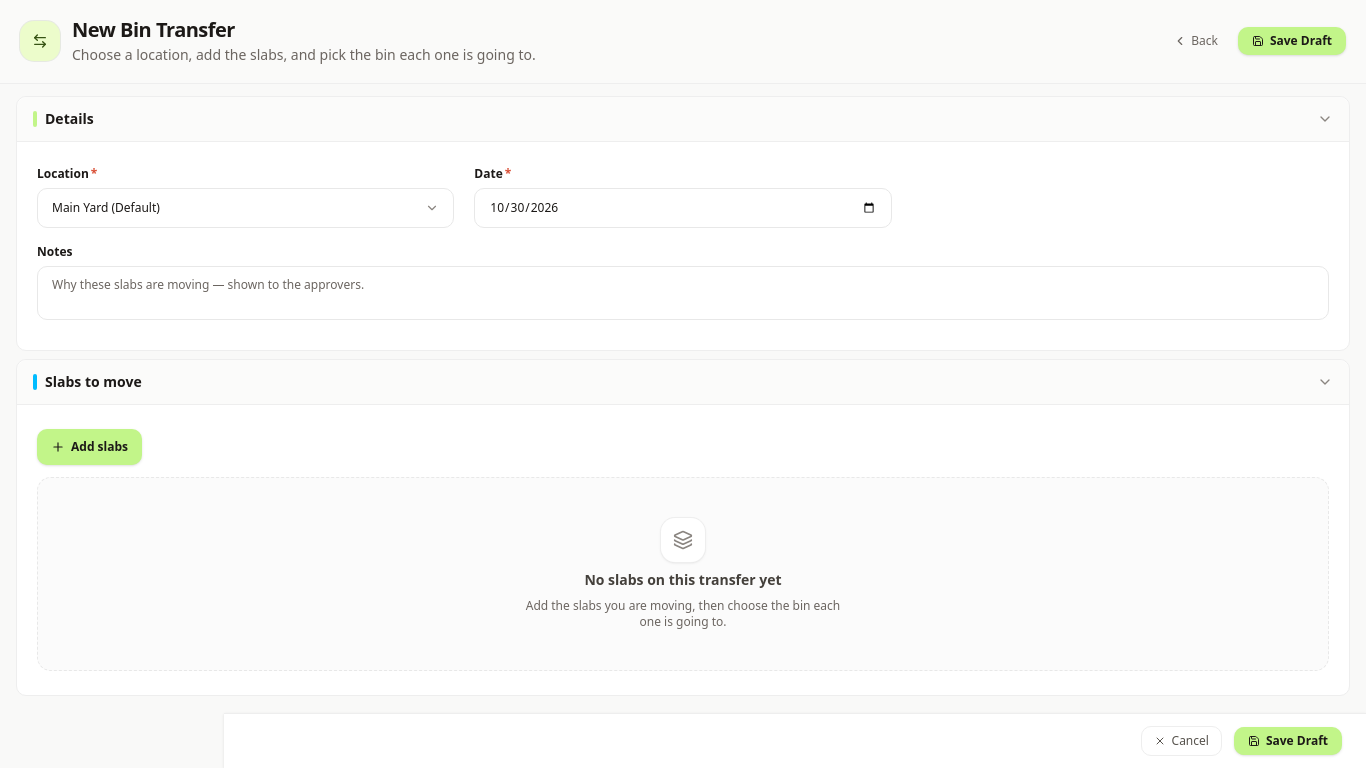
AddBinTransferPage › shows a slab that is already on the transfer as added rather than hiding it
Click the button "Add slabs". click: coordinates (90, 447)
box: [37,429,142,465]
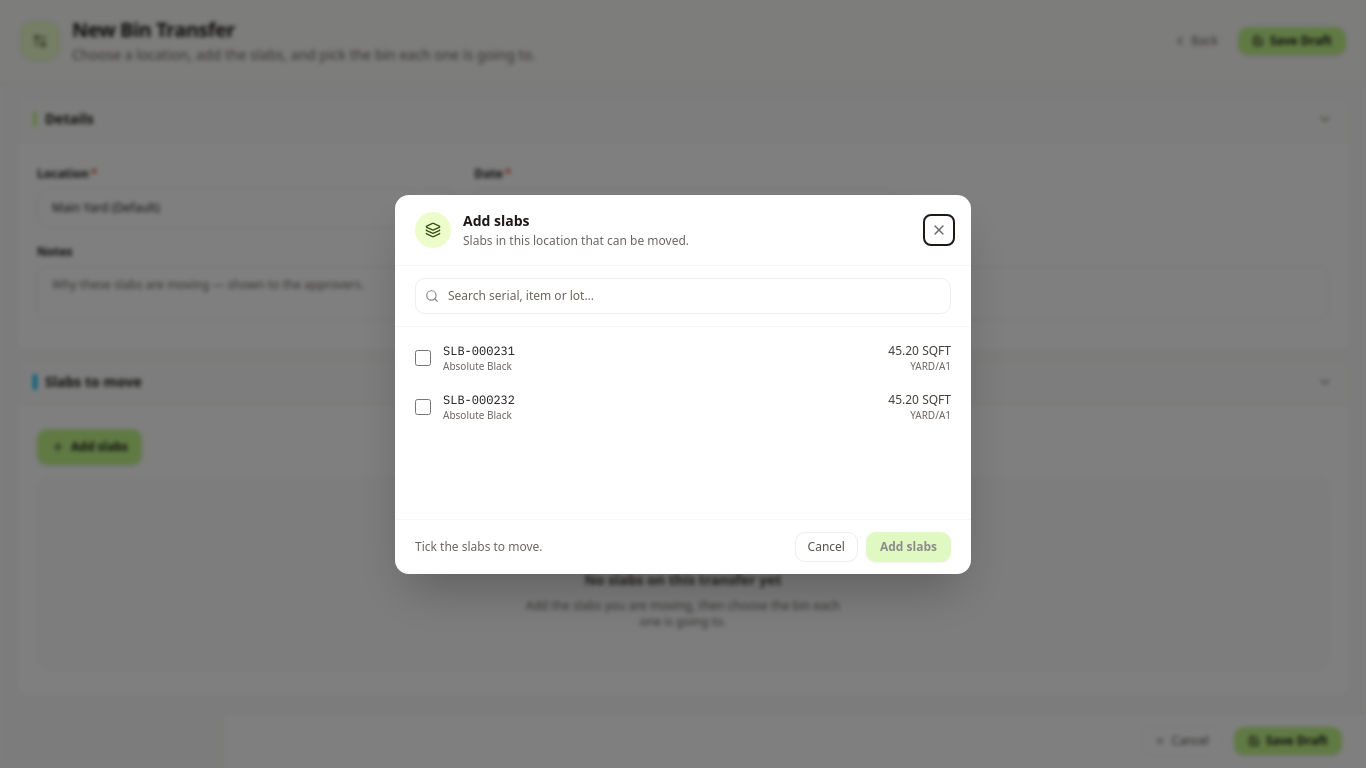
Click the checkbox named "Select SLB-000231". click: coordinates (423, 358)
box: [415,350,431,366]
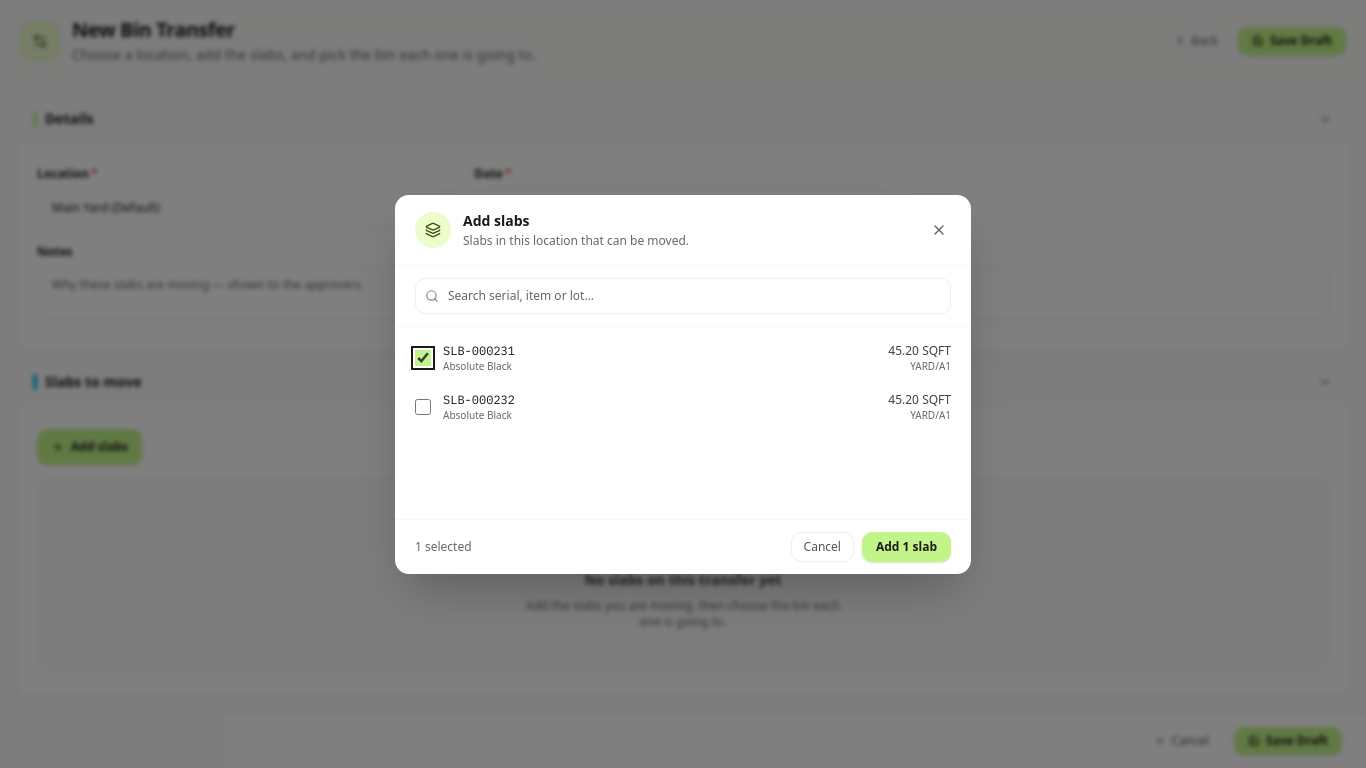
Click the button "Add 1 slab". click: coordinates (906, 546)
box: [862,532,951,562]
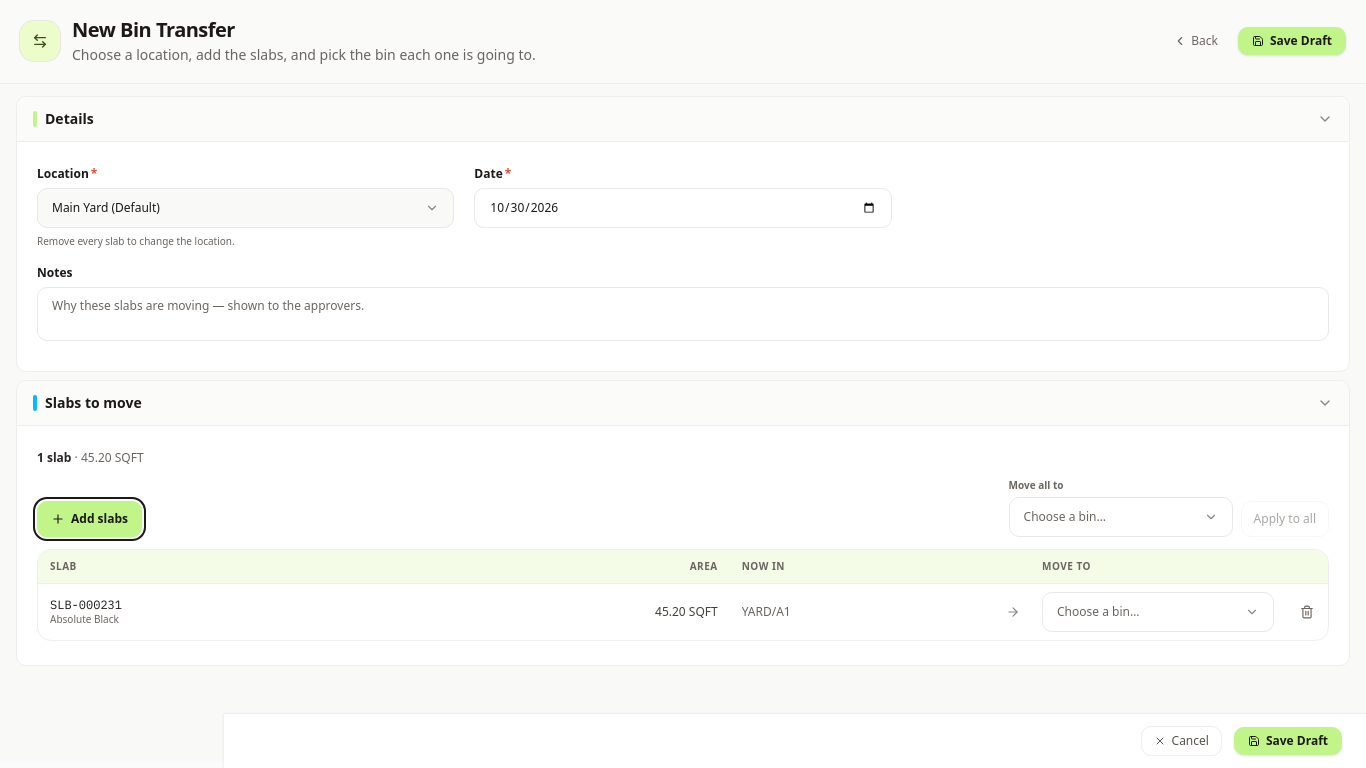
Click the button "Add slabs". click: coordinates (90, 519)
box: [37,501,142,537]
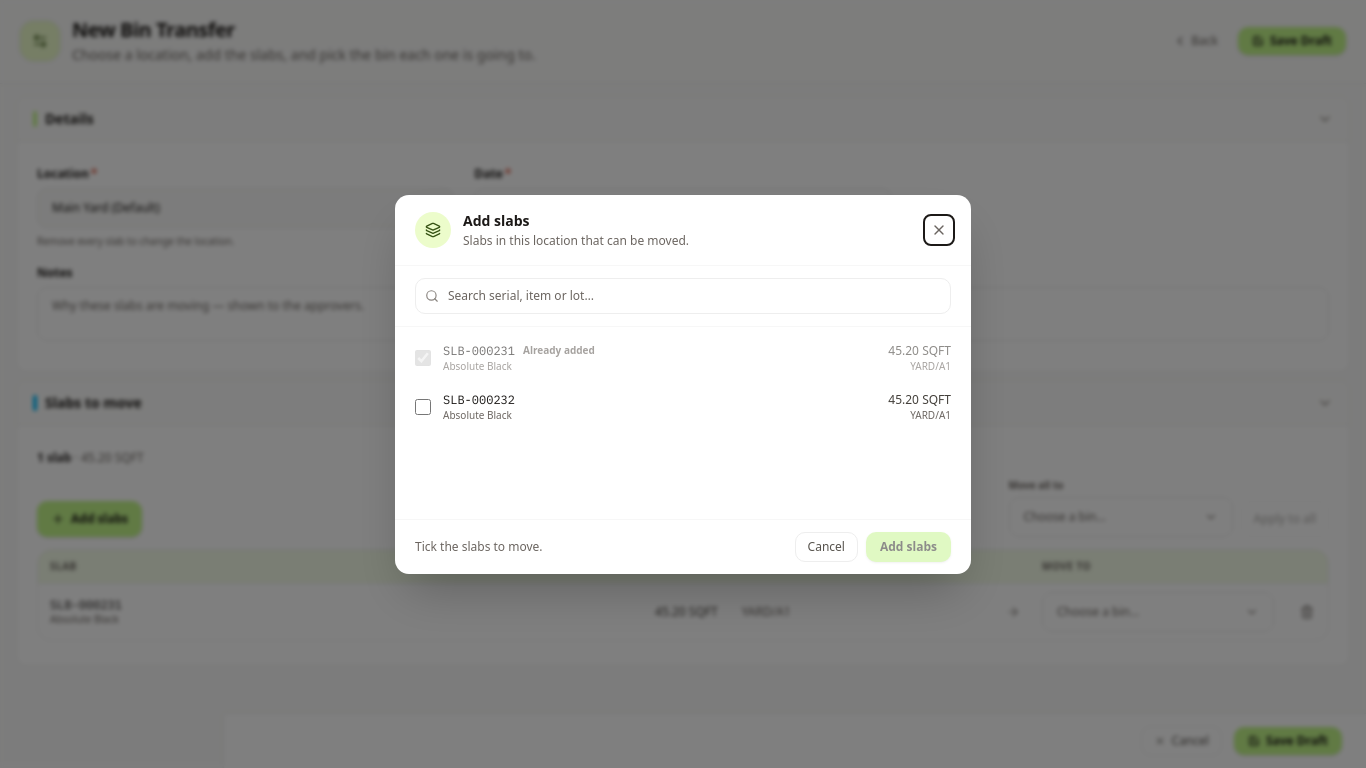
Expected: the checkbox named "Select SLB-000231" is checked, [415,350,431,366]
Expected: the checkbox named "Select SLB-000231" is disabled, [415,350,431,366]
Expected: the text "Already added" is shown, [523,343,595,358]
